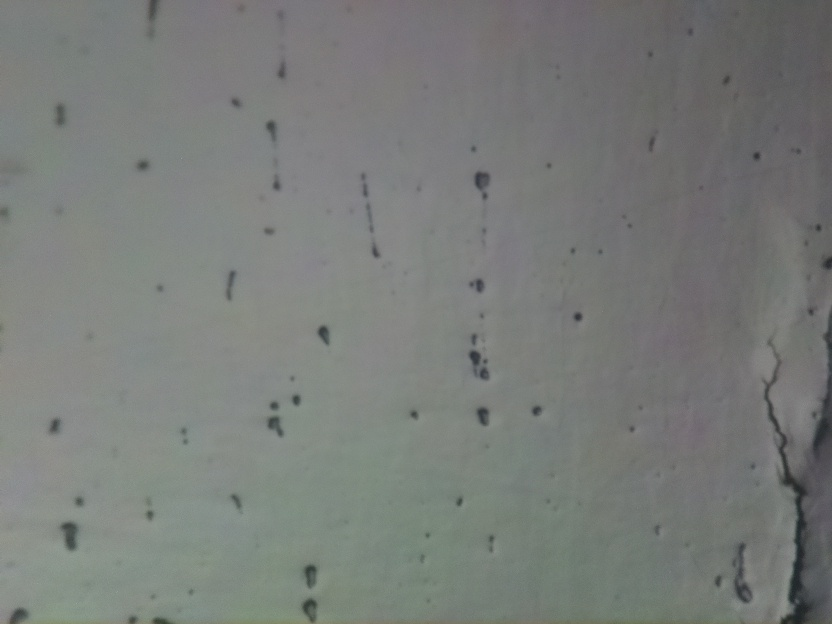crack: (769, 341, 810, 624)
